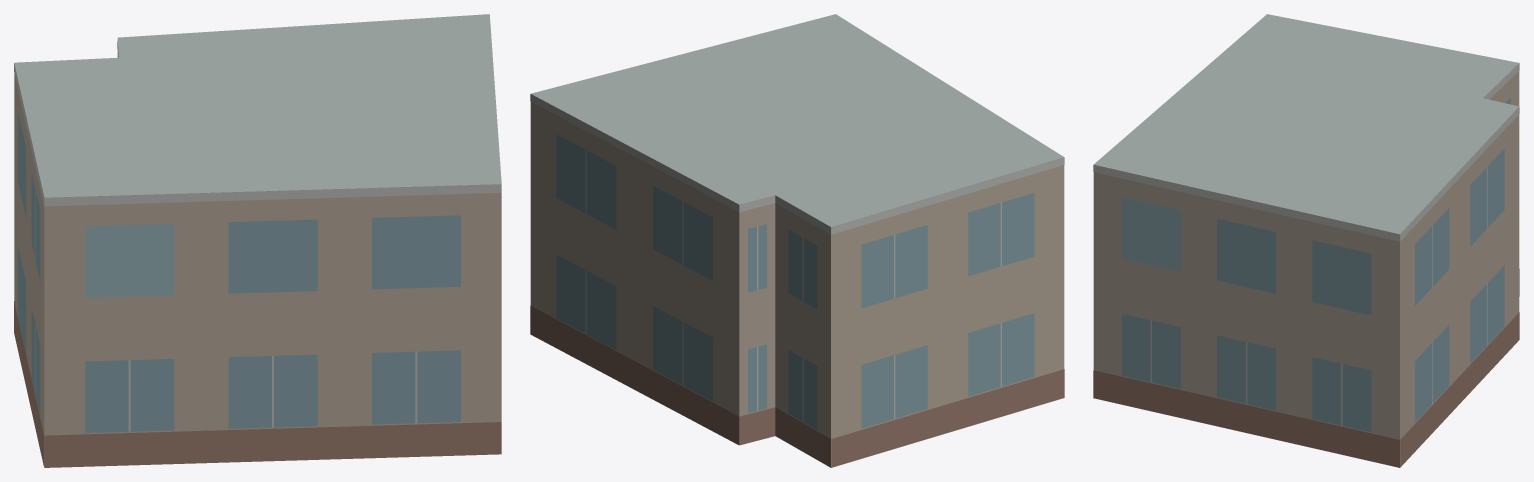
Rendered from survey-upis-32881947.glb.
3 views of the same model, side by side, from view 1: azimuth 30°, elevation 25°; view 2: azimuth 150°, elevation 25°; view 3: azimuth 270°, elevation 25° (orthographic). The views are drawn at different scales.
Visible parts, largest first — view 1: survey-upis-32881947.tmp; view 2: survey-upis-32881947.tmp; view 3: survey-upis-32881947.tmp.
Boxes of the visible parts, left/top/right/bottom form: survey-upis-32881947.tmp: left=14, top=14, right=501, bottom=467; survey-upis-32881947.tmp: left=530, top=14, right=1064, bottom=467; survey-upis-32881947.tmp: left=1093, top=14, right=1519, bottom=467.
Bounding box in the file's own units: 15.39 × 7.6 × 12.58.
